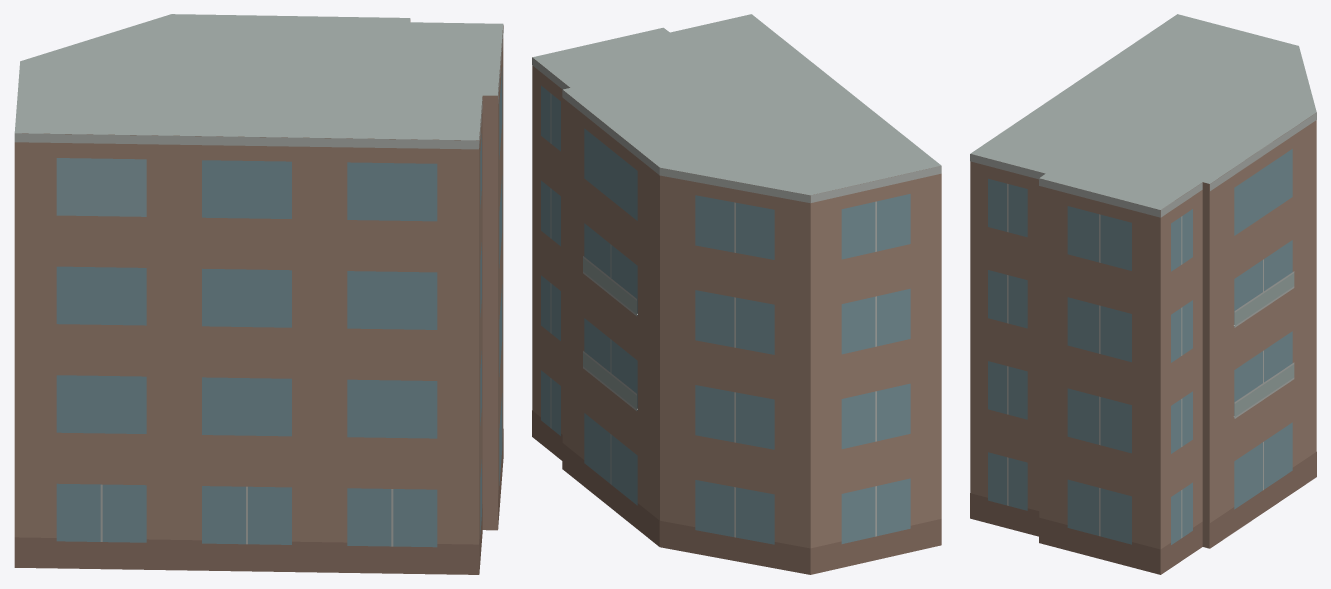
The model's file is survey-upis-32901978.glb.
3 views of the same model, side by side, from view 1: azimuth 30°, elevation 25°; view 2: azimuth 150°, elevation 25°; view 3: azimuth 270°, elevation 25° (orthographic). The views are drawn at different scales.
Visible parts, largest first — view 1: survey-upis-32901978.tmp; view 2: survey-upis-32901978.tmp; view 3: survey-upis-32901978.tmp.
Part boxes in pixels (bbox=[...]): survey-upis-32901978.tmp: bbox=[14, 14, 503, 574]; survey-upis-32901978.tmp: bbox=[532, 14, 941, 574]; survey-upis-32901978.tmp: bbox=[970, 14, 1316, 574].
Size of the model in its own units: 13.53 by 11.73 by 10.11.
